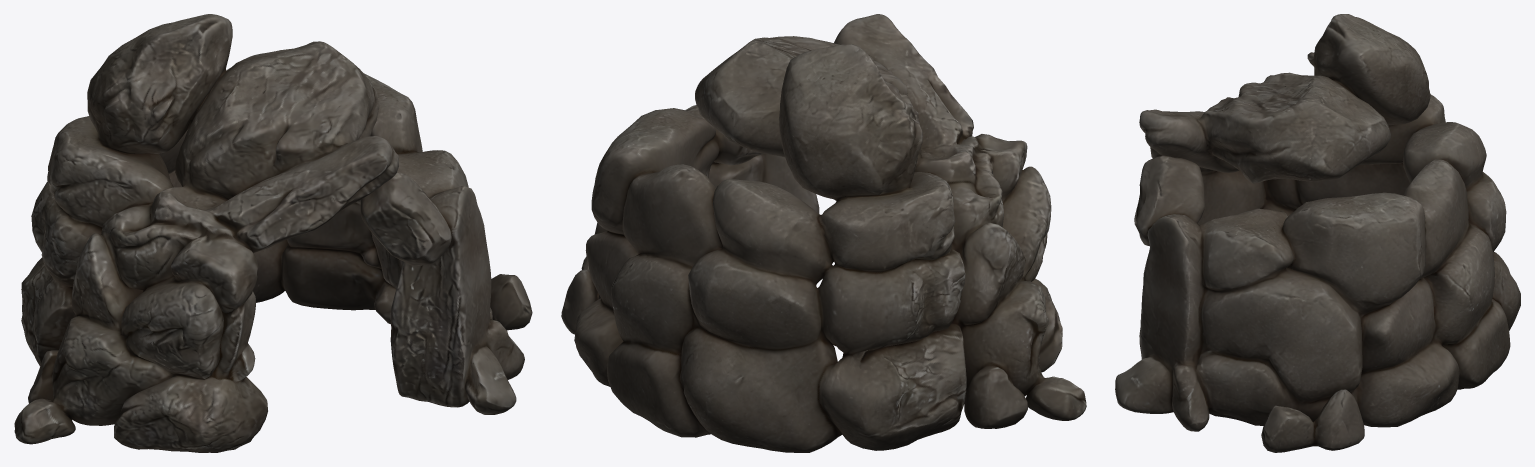
File: rodin_b.glb
3 views of the same model, side by side, from view 1: azimuth 30°, elevation 25°; view 2: azimuth 150°, elevation 25°; view 3: azimuth 270°, elevation 25° (orthographic). The views are drawn at different scales.
Parts seen in each view (by area): view 1: model; view 2: model; view 3: model.
Boxes of the visible parts, x1,y1,x2,y2 form: model: (14, 14, 532, 452); model: (561, 14, 1086, 452); model: (1115, 14, 1520, 452).
Bounding box in the file's own units: 1.88 × 1.24 × 1.48.
1 material, 1 textured.
